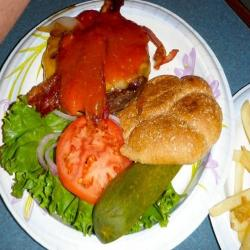bread: (109, 67, 228, 172)
burger: (25, 7, 154, 126)
salad: (5, 101, 96, 230)
